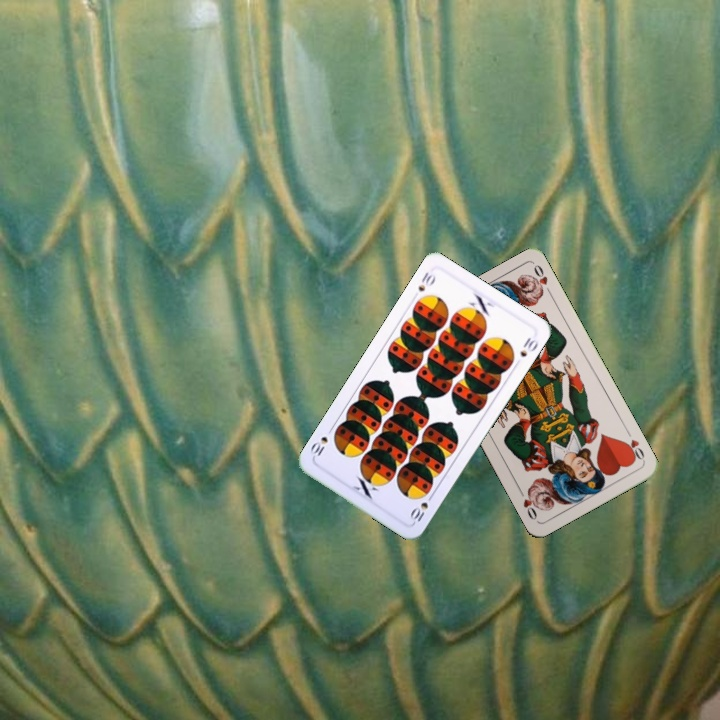HO: (620, 426, 647, 463)
S10: (406, 490, 436, 526), (414, 268, 438, 294)
